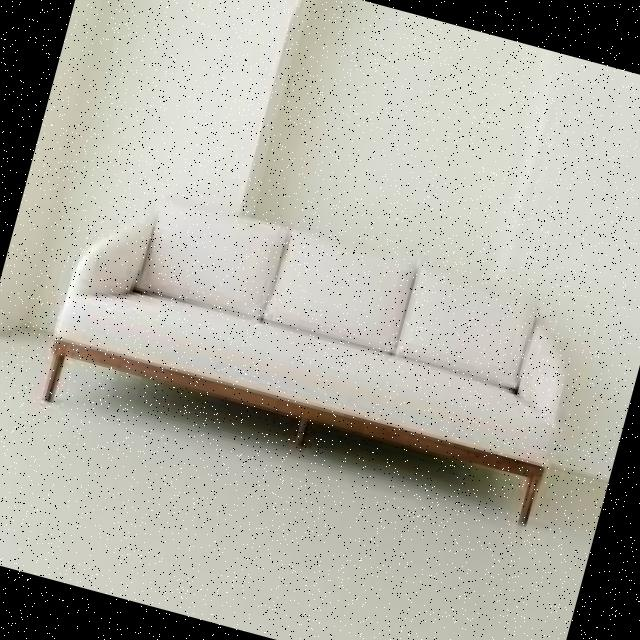Sofa: (0, 155, 619, 570)
